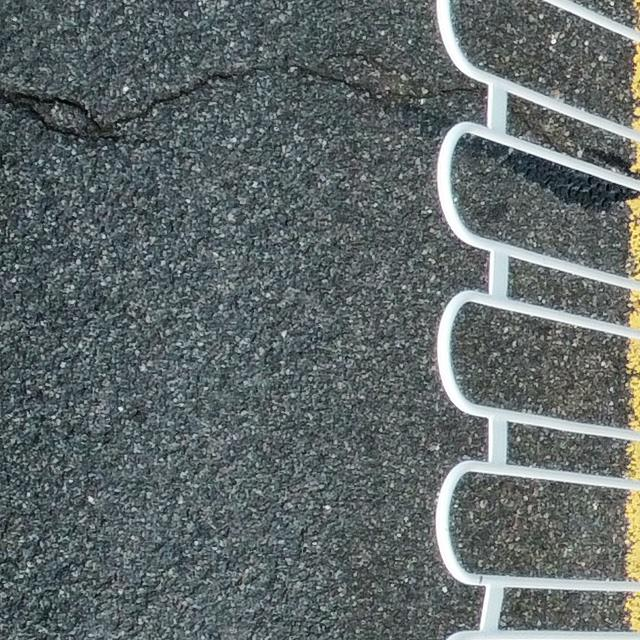TransverseCrack: (3, 52, 404, 143)
